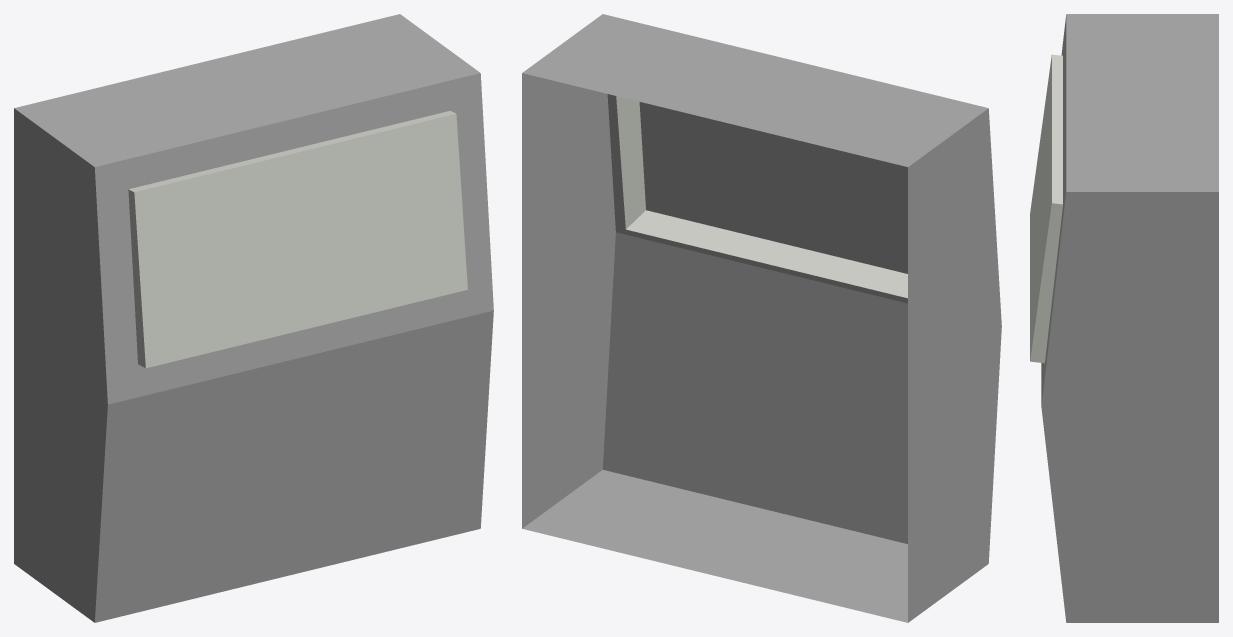
Rendered from hard_aircon_control.fbx.
3 views of the same model, side by side, from view 1: azimuth 30°, elevation 25°; view 2: azimuth 150°, elevation 25°; view 3: azimuth 270°, elevation 25° (orthographic). The views are drawn at different scales.
Visible parts, largest first — view 1: hard_aircon_control; view 2: hard_aircon_control; view 3: hard_aircon_control.
Boxes of the visible parts, x1,y1,x2,y2 form: hard_aircon_control: (14, 14, 493, 622); hard_aircon_control: (522, 14, 1001, 622); hard_aircon_control: (1030, 14, 1218, 622).
Bounding box in the file's own units: 0.636 × 0.7175 × 0.2848.
